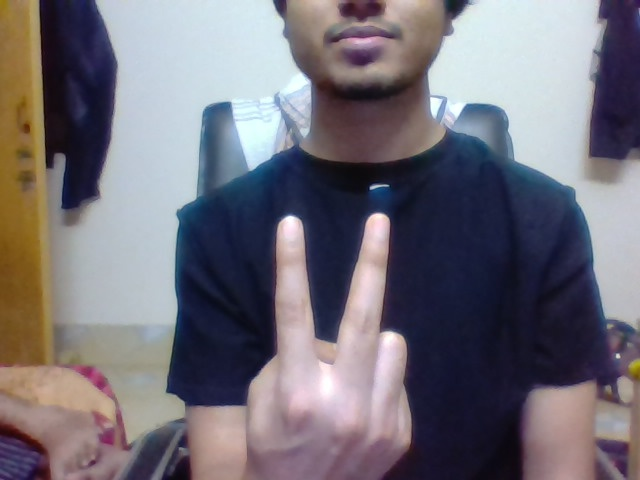V: (270, 205, 395, 352)
